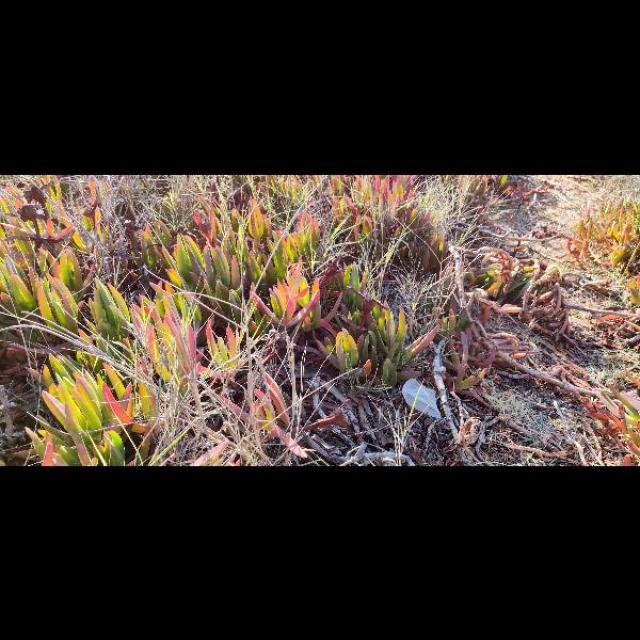plastic_waste: (392, 360, 454, 429)
